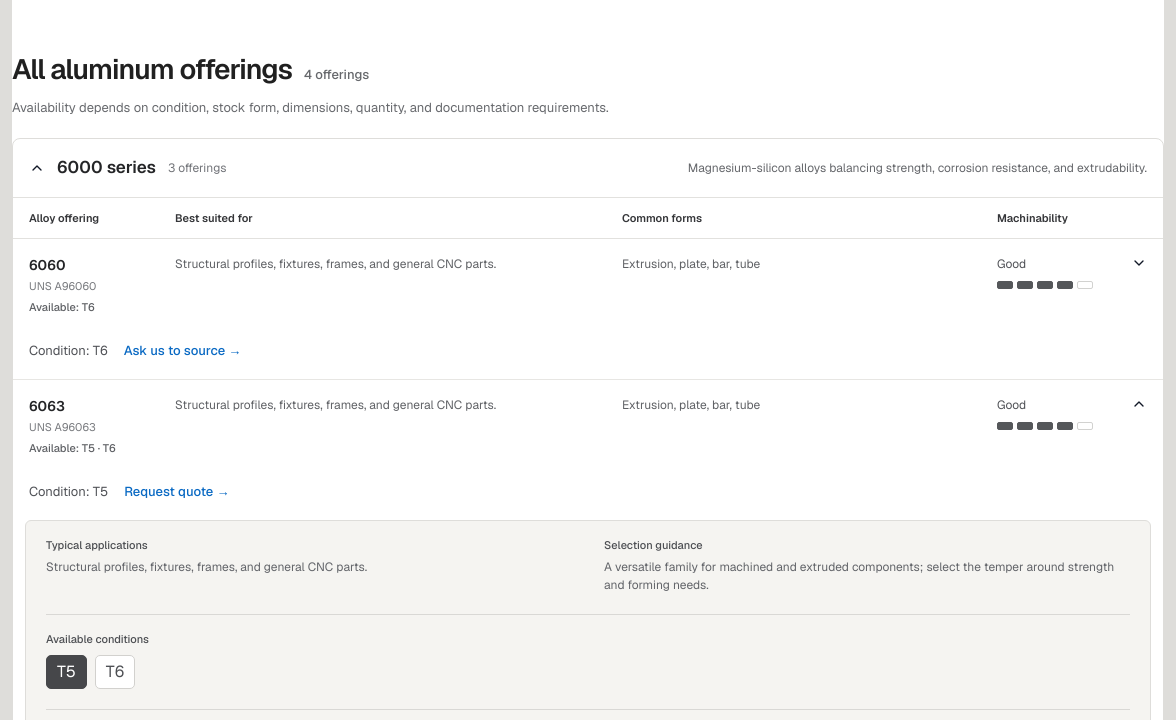
Scenario: MaterialGradeDirectory › renders the selected series and expanded subcard
The width and height of the screenshot is (1176, 720).
Expected: the heading "All aluminum offerings" is shown, [12,48,292,90]
Expected: the element named "6063 available conditions" shows "T5", [46,655,87,689]
Click the button "T6".
click(115, 672)  # box [95,655,135,689]
(page scrolled)
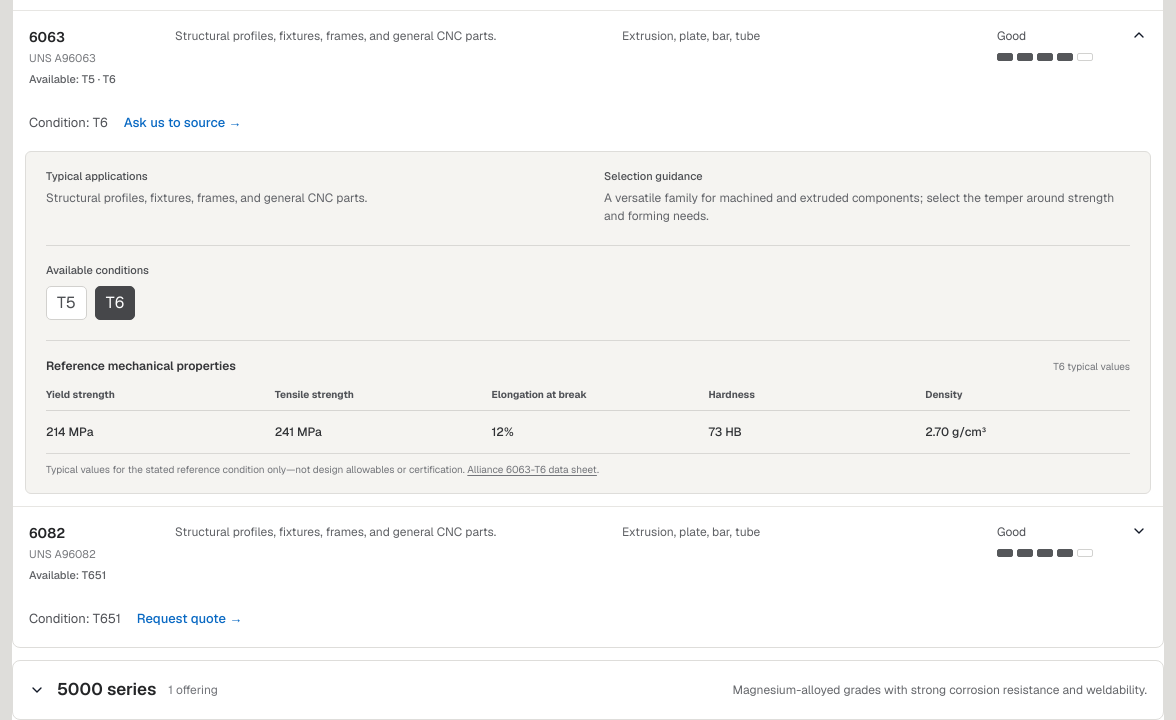
Now the text "T6 typical values" is shown, box [1053,359,1130,374]
Now the link "Alliance 6063-T6 data sheet" is shown, box [467,463,597,476]
